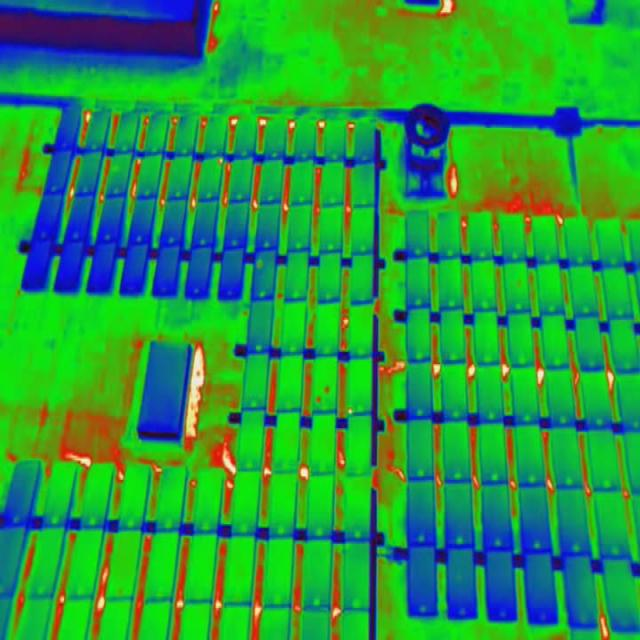Orange-Spots: (256, 258, 264, 270), (323, 384, 330, 396), (316, 395, 322, 405), (347, 408, 353, 414), (219, 157, 223, 164)
